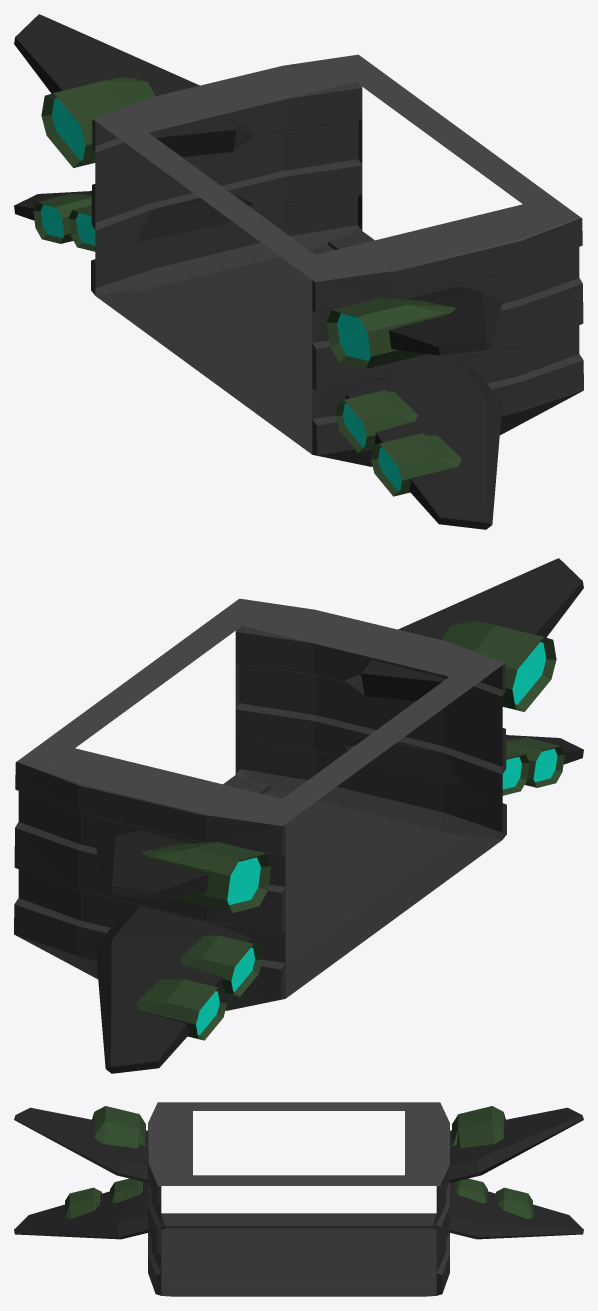
The model's file is Capsule_Body.FBX.
3 views of the same model, one above another, from view 1: azimuth 30°, elevation 25°; view 2: azimuth 150°, elevation 25°; view 3: azimuth 270°, elevation 25° (orthographic). The views are drawn at different scales.
Parts seen in each view (by area): view 1: Object006; view 2: Object006; view 3: Object006.
Part boxes in pixels (bbox=[...]): Object006: bbox=[14, 14, 583, 529]; Object006: bbox=[14, 558, 583, 1073]; Object006: bbox=[14, 1102, 583, 1296].
Bounding box in the file's own units: 6.39 × 18.64 × 5.01.
